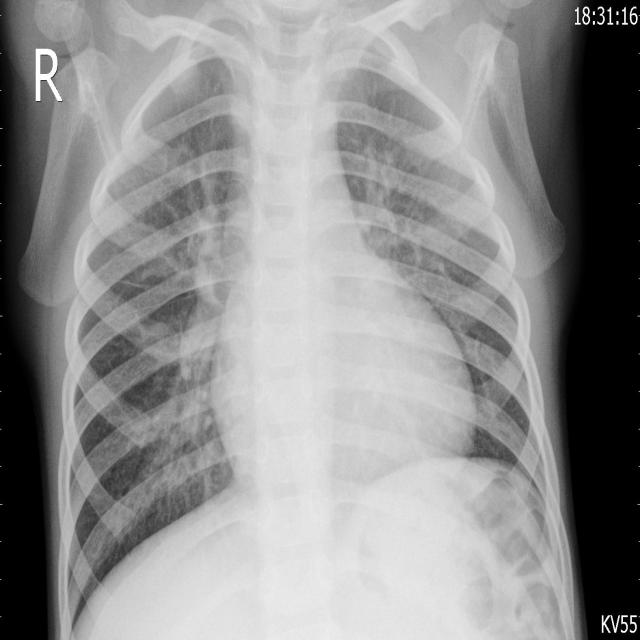low-pneumonia: (163, 200, 232, 461), (352, 119, 433, 279)
